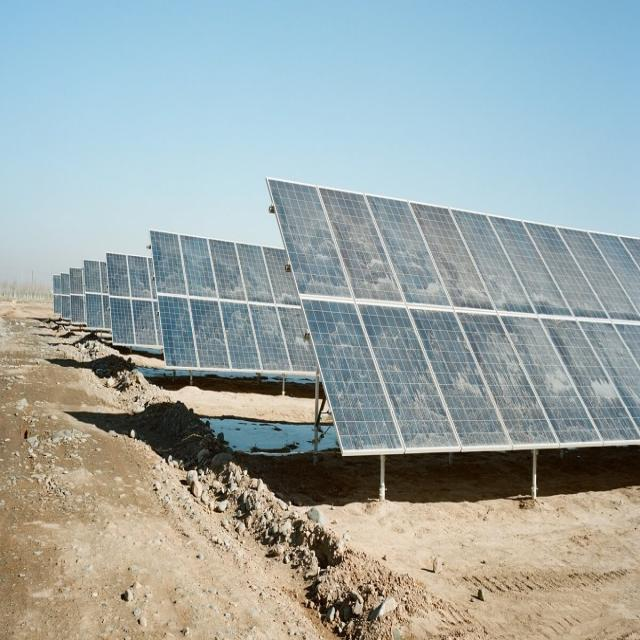dust-solar-panel: (55, 179, 640, 451)
